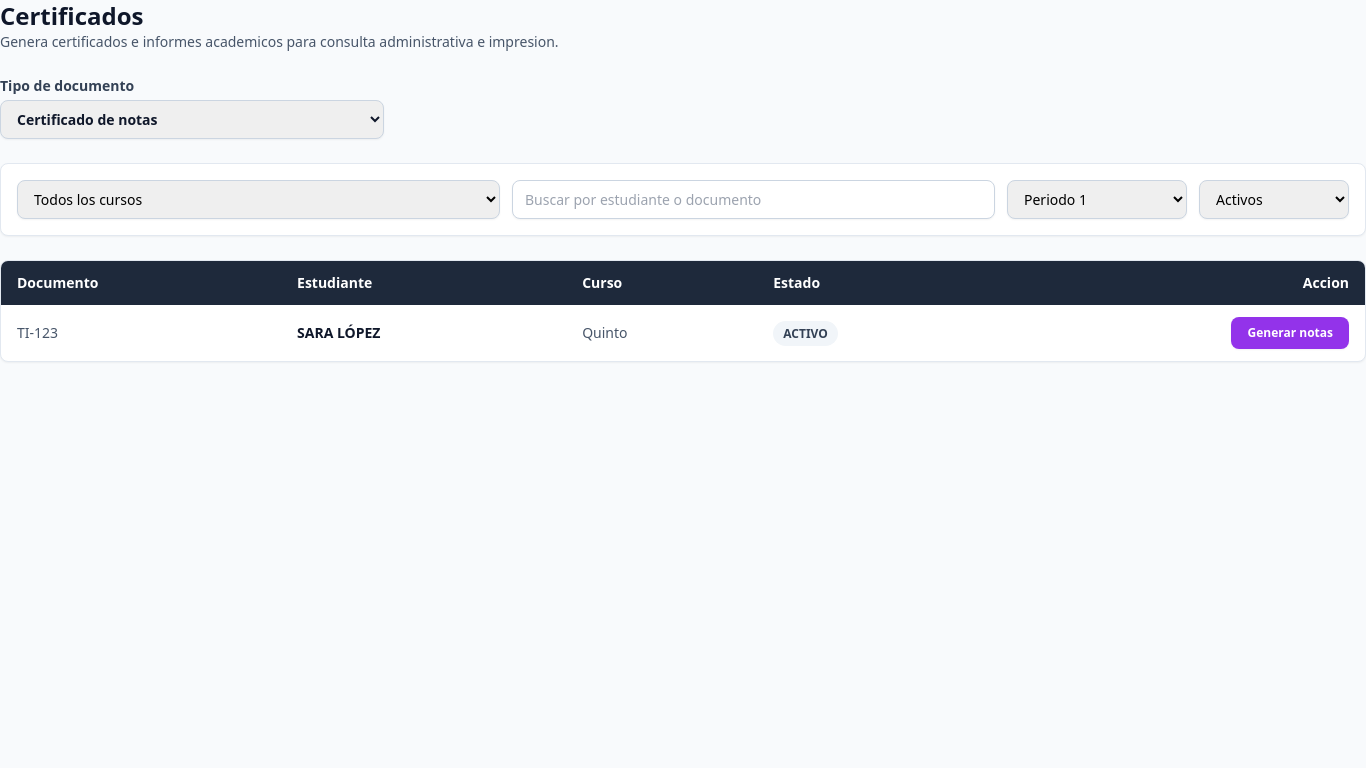
CertificadosAdmin › abre los costos educativos llenos con lo que paga el estudiante, para editarlos
Expected: the text "TI-123" is shown, top-left (1, 305), bottom-right (281, 361)
Select "Certificado de costos educativos" in the dropdown labelled "Tipo de documento" at (192, 120), box top-left (0, 100), bottom-right (384, 139)
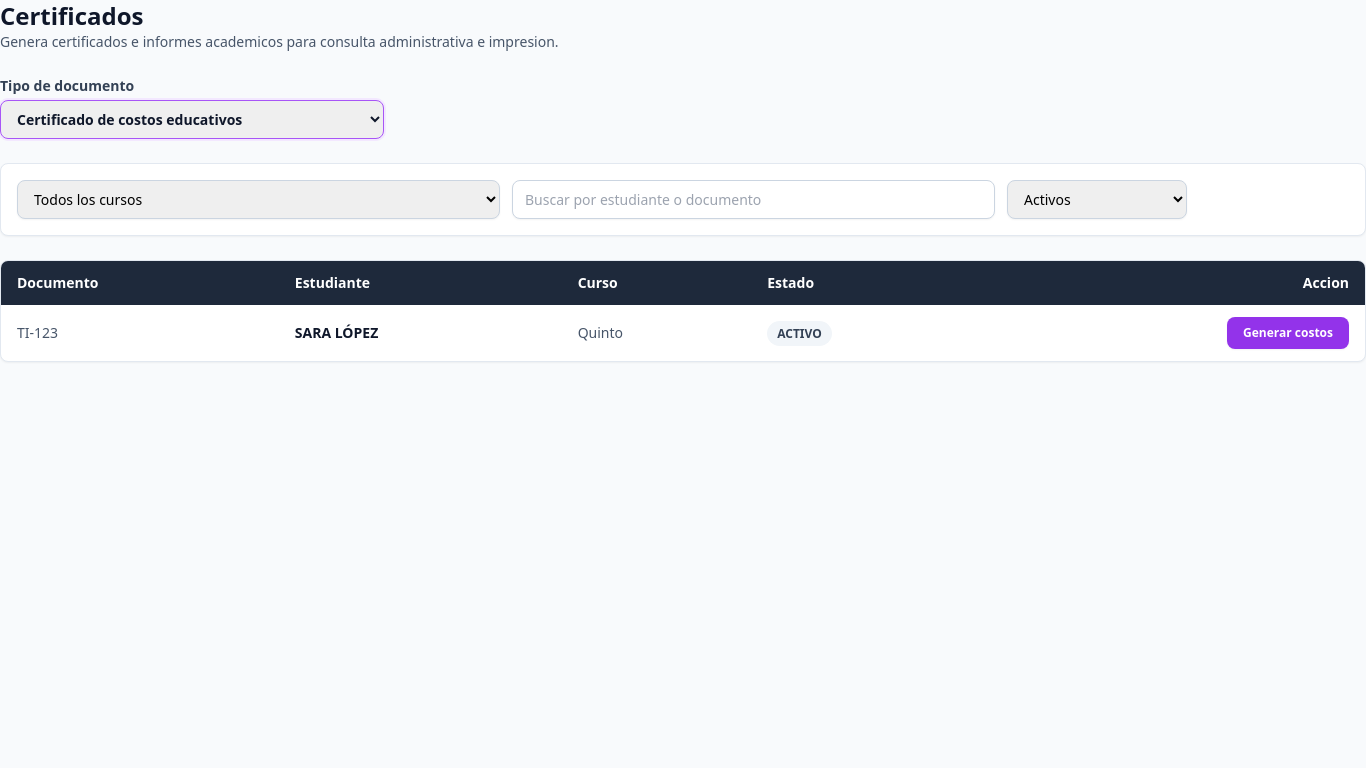
Click the button "Generar costos" at (1288, 333), box top-left (1227, 317), bottom-right (1349, 349)
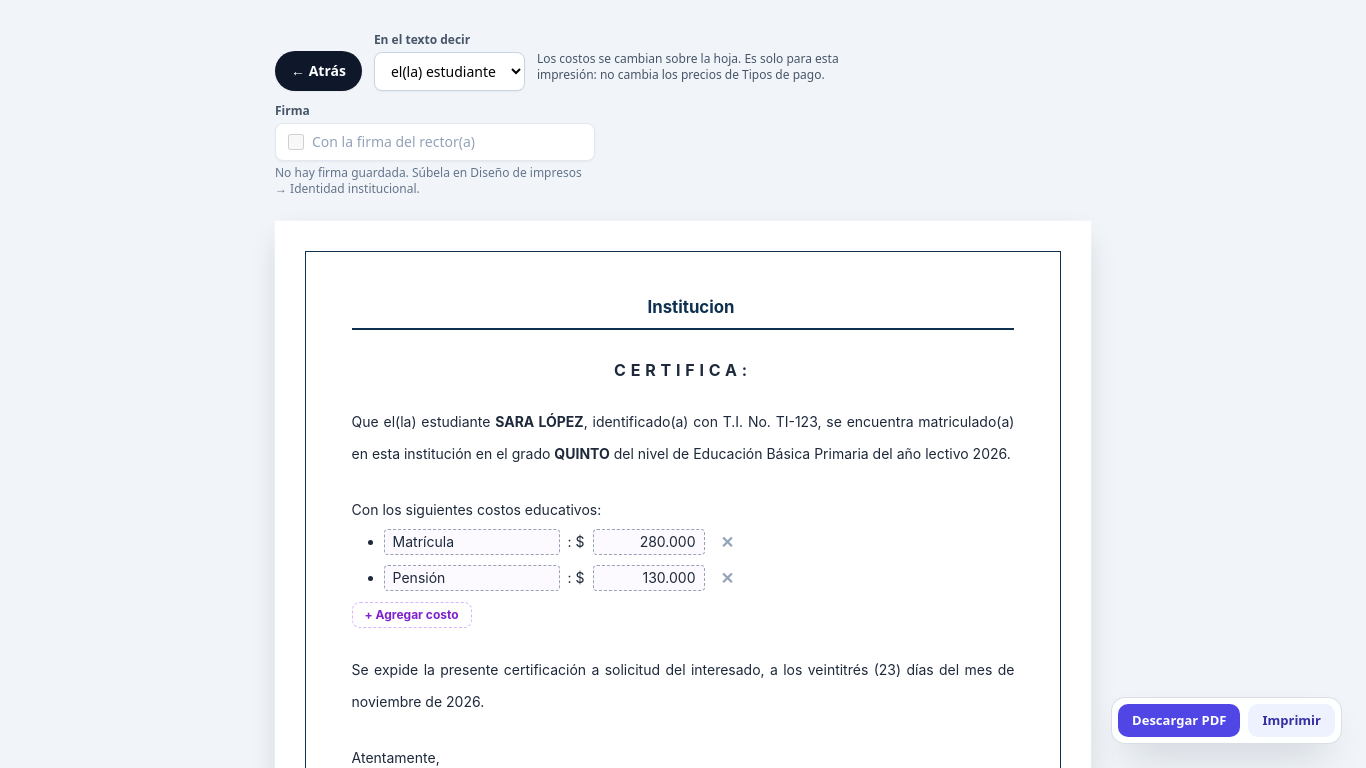
Expected: the text "Con los siguientes costos educativos:" is shown, top-left (352, 501), bottom-right (601, 518)
Expected: the field named "Concepto 1" holds "Matrícula", top-left (384, 529), bottom-right (560, 555)
Expected: the field named "Valor 2" holds "130.000", top-left (592, 565), bottom-right (704, 591)
